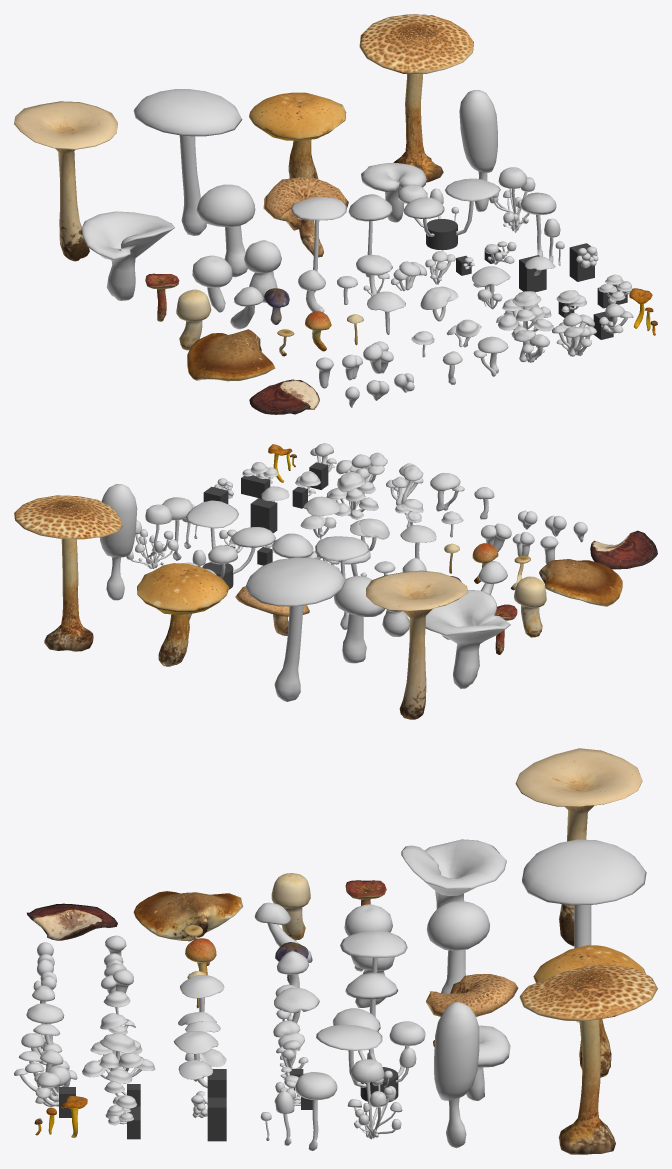
The model's file is mushroom-pack.fbx.
3 views of the same model, one above another, from view 1: azimuth 30°, elevation 25°; view 2: azimuth 150°, elevation 25°; view 3: azimuth 270°, elevation 25° (orthographic). The views are drawn at different scales.
Parts seen in each view (by area): view 1: Mushroom_20_Mushroom2_0, Mushroom_15_Mushroom2_0, Mushroom_9.1_Mushrooms_0, Mushroom_21_Mushroom2_0, Mushroom_4_Mushrooms_0, Mushroom_26_Mushroom2_0, Mushroom_9.2_Mushrooms_0, Mushroom_5_Mushrooms_0, Mushroom_18_Mushroom2_0, Mushroom_3_Mushrooms_0, Mushroom_25_Mushroom2_0, Mushroom_9.3_Mushrooms_0 (+19 smaller); view 2: Mushroom_20_Mushroom2_0, Mushroom_9.1_Mushrooms_0, Mushroom_15_Mushroom2_0, Mushroom_21_Mushroom2_0, Mushroom_4_Mushrooms_0, Mushroom_26_Mushroom2_0, Mushroom_5_Mushrooms_0, Mushroom_9.2_Mushrooms_0, Mushroom_25_Mushroom2_0, Mushroom_23_Mushroom2_0, Mushroom_6.002_Mushrooms_0, Mushroom_6.032_Mushrooms_0 (+17 smaller); view 3: Mushroom_20_Mushroom2_0, Mushroom_9.1_Mushrooms_0, Mushroom_15_Mushroom2_0, Mushroom_5_Mushrooms_0, Mushroom_4_Mushrooms_0, Mushroom_26_Mushroom2_0, Mushroom_9.2_Mushrooms_0, Mushroom_21_Mushroom2_0, Mushroom_18_Mushroom2_0, Mushroom_25_Mushroom2_0, Mushroom_23_Mushroom2_0, Mushroom_6.002_Mushrooms_0 (+19 smaller).
Boxes of the visible parts, x1,y1,x2,y2 form: Mushroom_20_Mushroom2_0: [359, 14, 473, 182]; Mushroom_15_Mushroom2_0: [14, 101, 117, 261]; Mushroom_9.1_Mushrooms_0: [133, 89, 242, 235]; Mushroom_21_Mushroom2_0: [249, 92, 346, 178]; Mushroom_4_Mushrooms_0: [81, 211, 174, 300]; Mushroom_26_Mushroom2_0: [187, 329, 275, 381]; Mushroom_9.2_Mushrooms_0: [196, 184, 255, 277]; Mushroom_5_Mushrooms_0: [459, 90, 497, 211]; Mushroom_18_Mushroom2_0: [263, 177, 348, 257]; Mushroom_3_Mushrooms_0: [361, 163, 426, 222]; Mushroom_25_Mushroom2_0: [249, 379, 319, 414]; Mushroom_9.3_Mushrooms_0: [244, 240, 281, 302]; Mushroom_20_Mushroom2_0: [14, 495, 122, 651]; Mushroom_9.1_Mushrooms_0: [245, 557, 345, 701]; Mushroom_15_Mushroom2_0: [366, 570, 468, 719]; Mushroom_21_Mushroom2_0: [137, 563, 228, 666]; Mushroom_4_Mushrooms_0: [425, 590, 510, 688]; Mushroom_26_Mushroom2_0: [539, 559, 622, 606]; Mushroom_5_Mushrooms_0: [99, 484, 137, 600]; Mushroom_9.2_Mushrooms_0: [334, 576, 385, 663]; Mushroom_25_Mushroom2_0: [590, 530, 657, 569]; Mushroom_23_Mushroom2_0: [514, 576, 546, 637]; Mushroom_6.002_Mushrooms_0: [315, 536, 368, 629]; Mushroom_6.032_Mushrooms_0: [185, 500, 238, 548]; Mushroom_20_Mushroom2_0: [519, 965, 657, 1154]; Mushroom_9.1_Mushrooms_0: [521, 839, 646, 1022]; Mushroom_15_Mushroom2_0: [515, 748, 642, 946]; Mushroom_5_Mushrooms_0: [434, 1002, 479, 1148]; Mushroom_4_Mushrooms_0: [401, 839, 506, 908]; Mushroom_26_Mushroom2_0: [133, 891, 243, 941]; Mushroom_9.2_Mushrooms_0: [426, 901, 489, 993]; Mushroom_21_Mushroom2_0: [533, 945, 645, 1077]; Mushroom_18_Mushroom2_0: [426, 974, 518, 1047]; Mushroom_25_Mushroom2_0: [27, 903, 117, 940]; Mushroom_23_Mushroom2_0: [271, 873, 310, 940]; Mushroom_6.002_Mushrooms_0: [340, 930, 407, 1031].
Size of the model in its own units: 8939 by 2821 by 9447.
